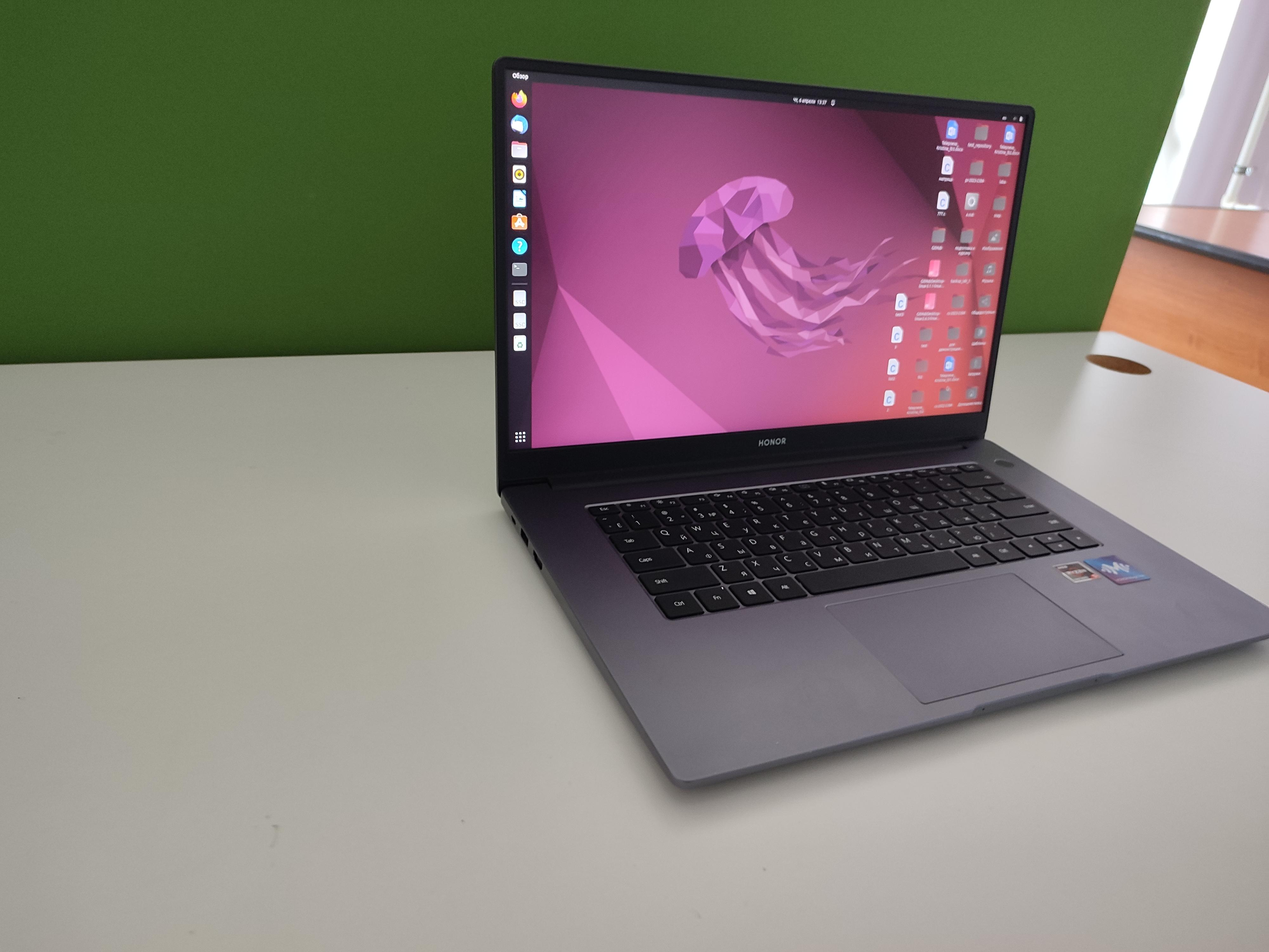monitor: (490, 54, 1038, 490)
